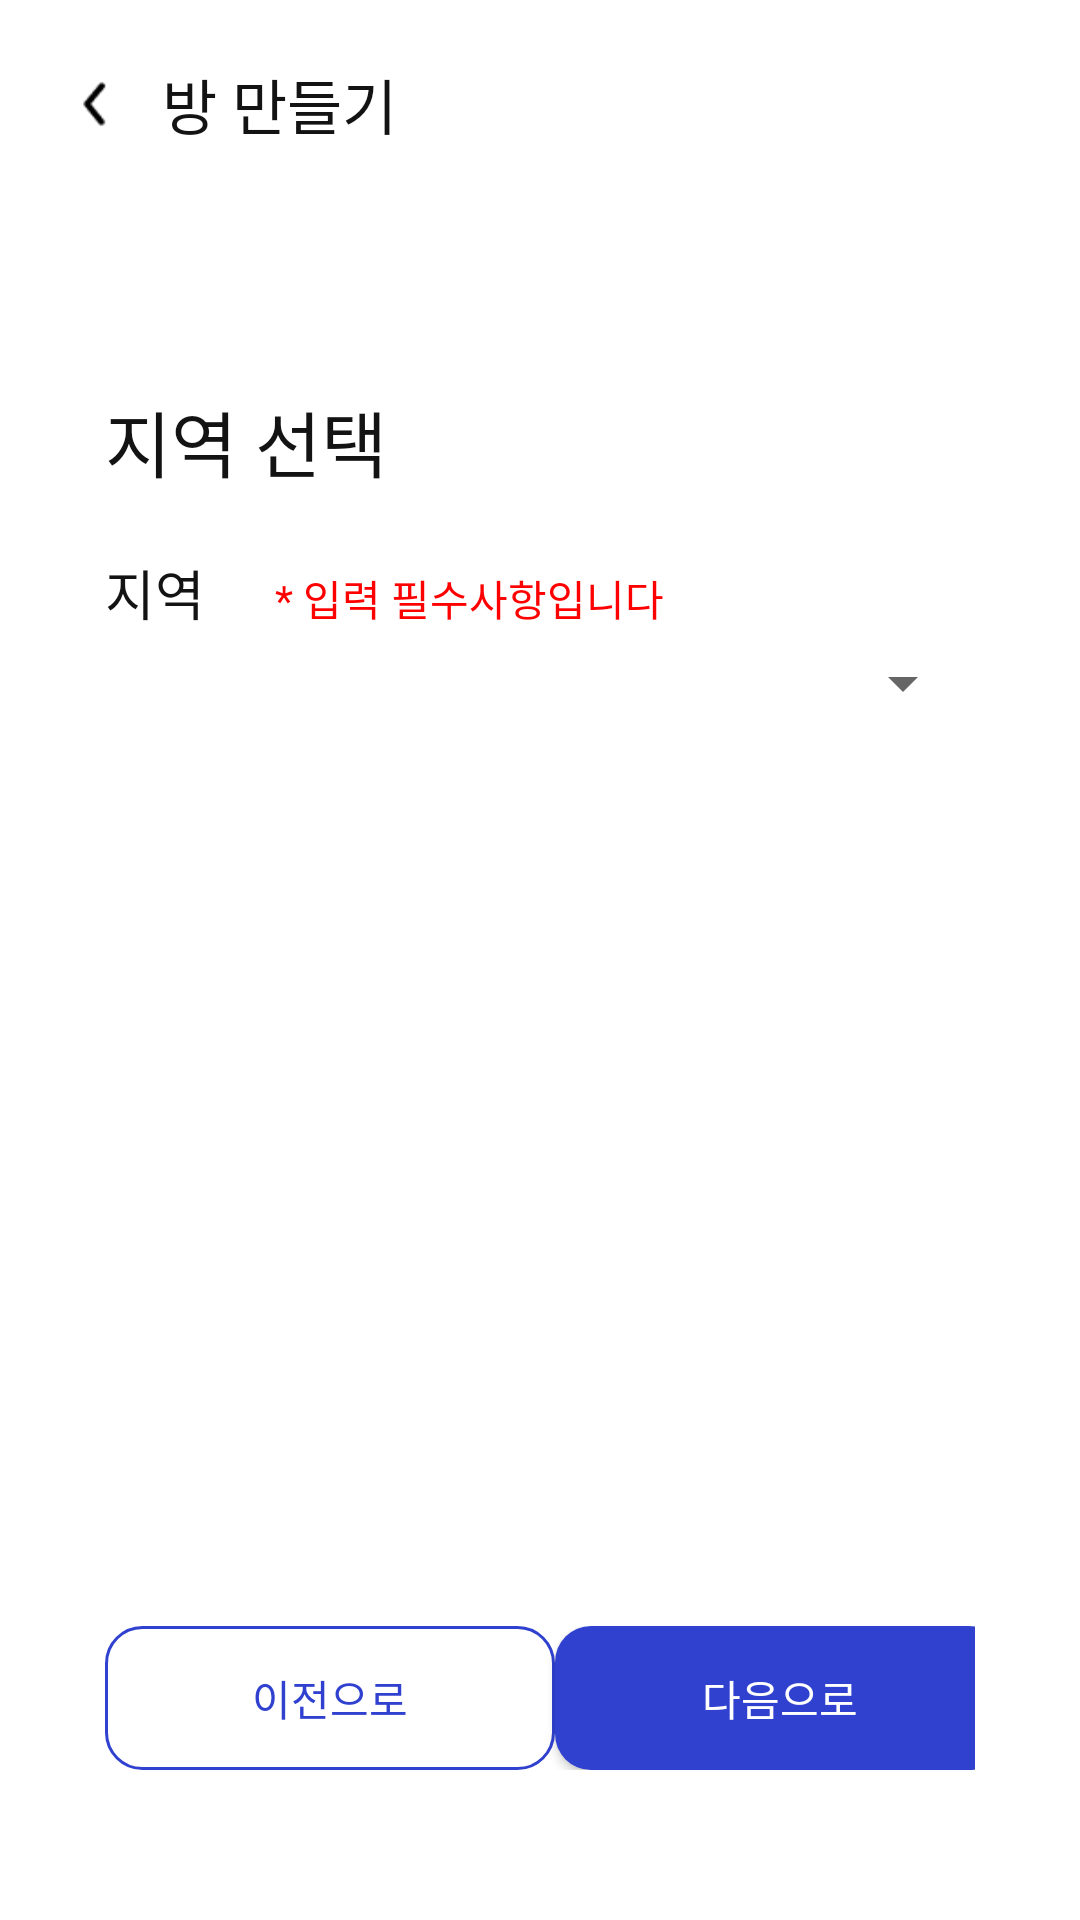

Point at icon controls on the screen. Image size 1080px x 1920px, points as (x,y).
arrow: (94,104)
